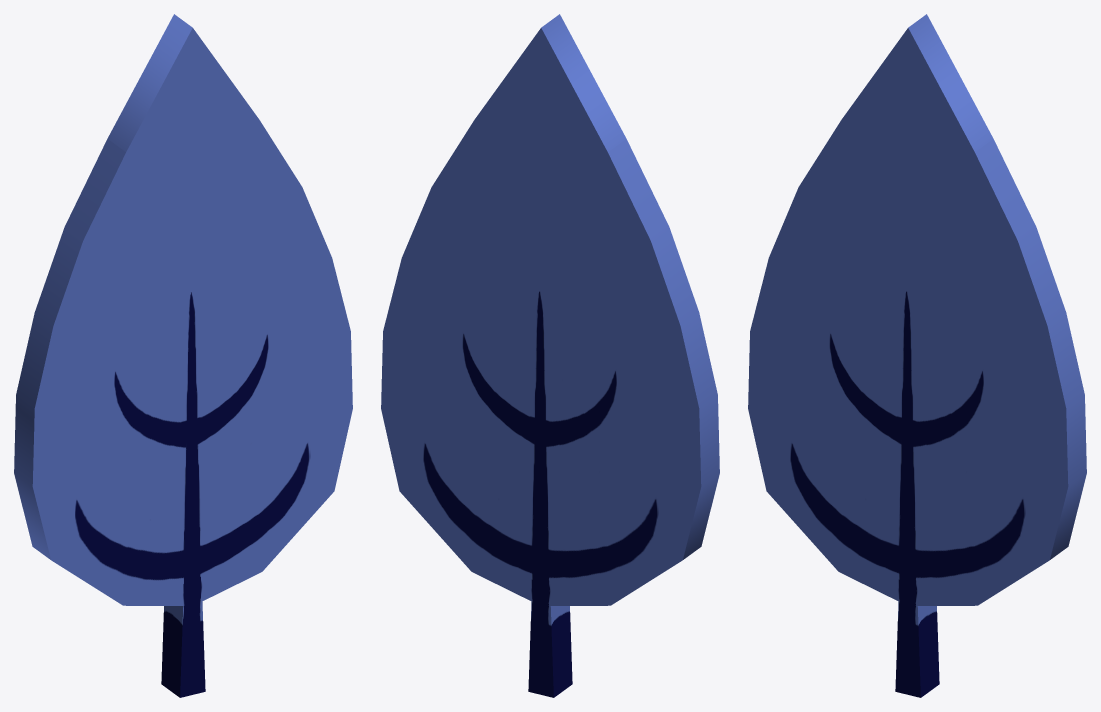
The model's file is Tree1.obj.
3 renders of one model, left to right at view 1: azimuth 30°, elevation 25°; view 2: azimuth 150°, elevation 25°; view 3: azimuth 330°, elevation 25°, orthographic.
Visible parts, largest first — view 1: pCube1; view 2: pCube1; view 3: pCube1.
Boxes of the visible parts, x1=… form: pCube1: x1=14, y1=14, x2=352, y2=697; pCube1: x1=381, y1=14, x2=719, y2=697; pCube1: x1=748, y1=14, x2=1086, y2=697.
Size of the model in its own units: 9.89 by 19.69 by 1.
Materials: 1 (1 with a texture image).
